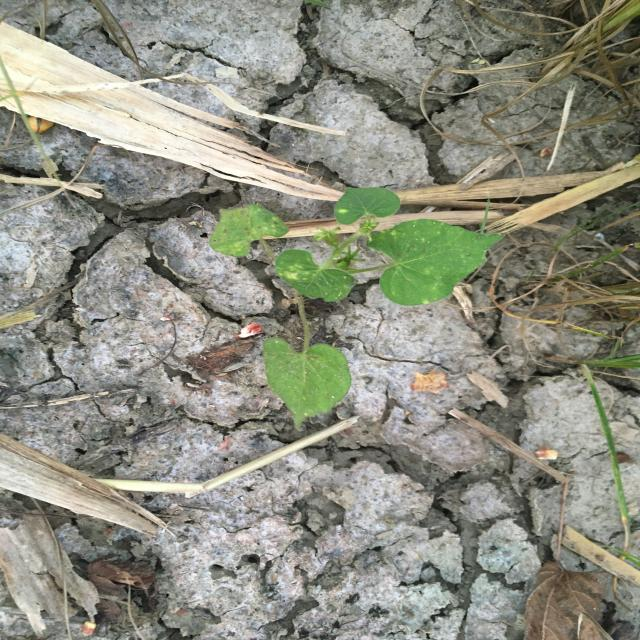MorningGlory: (204, 184, 508, 434)
